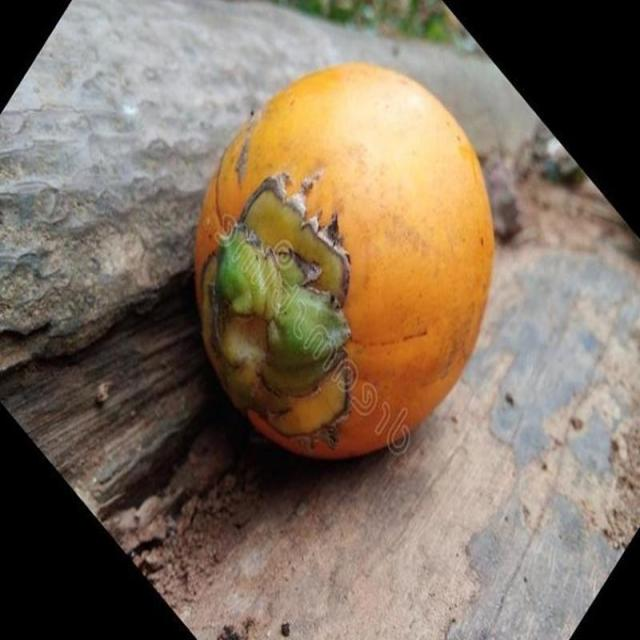good: (192, 62, 495, 465)
